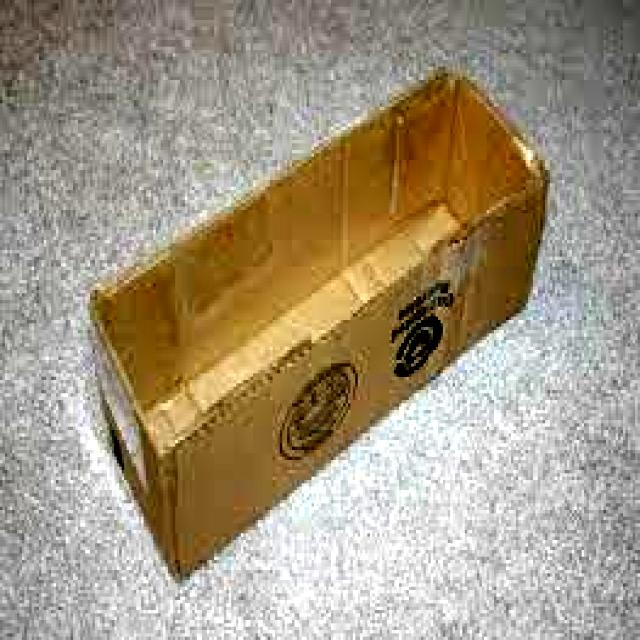Cardboard: (84, 54, 557, 596)
